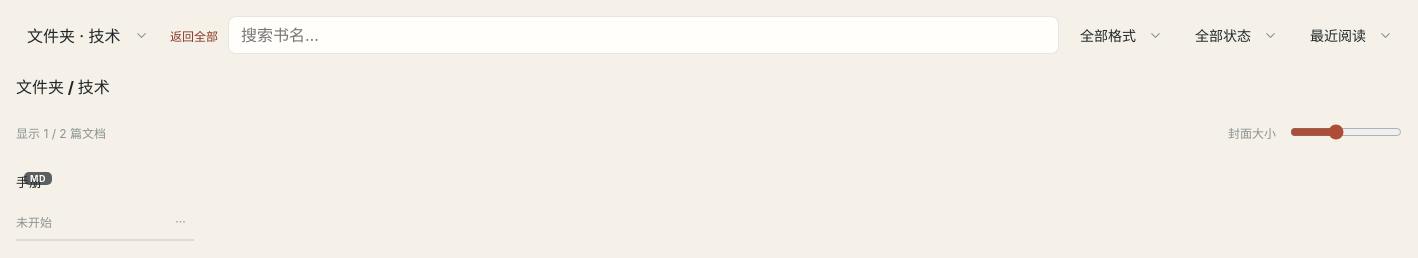
Scenario: BookshelfView (library browser) › filters nested folder documents from the current library scope
Check: the heading "文件夹 / 技术" is shown, box left=16, top=74, right=110, bottom=98
Check: the button "手册" is shown, box left=16, top=164, right=194, bottom=208
Click the button "返回全部" at (194, 35), box left=170, top=22, right=218, bottom=48
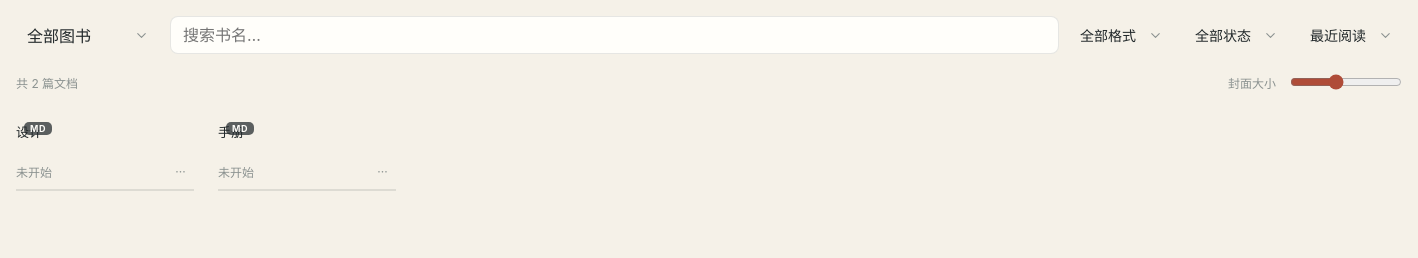
Check: the button "设计" is shown, box left=16, top=114, right=194, bottom=158
